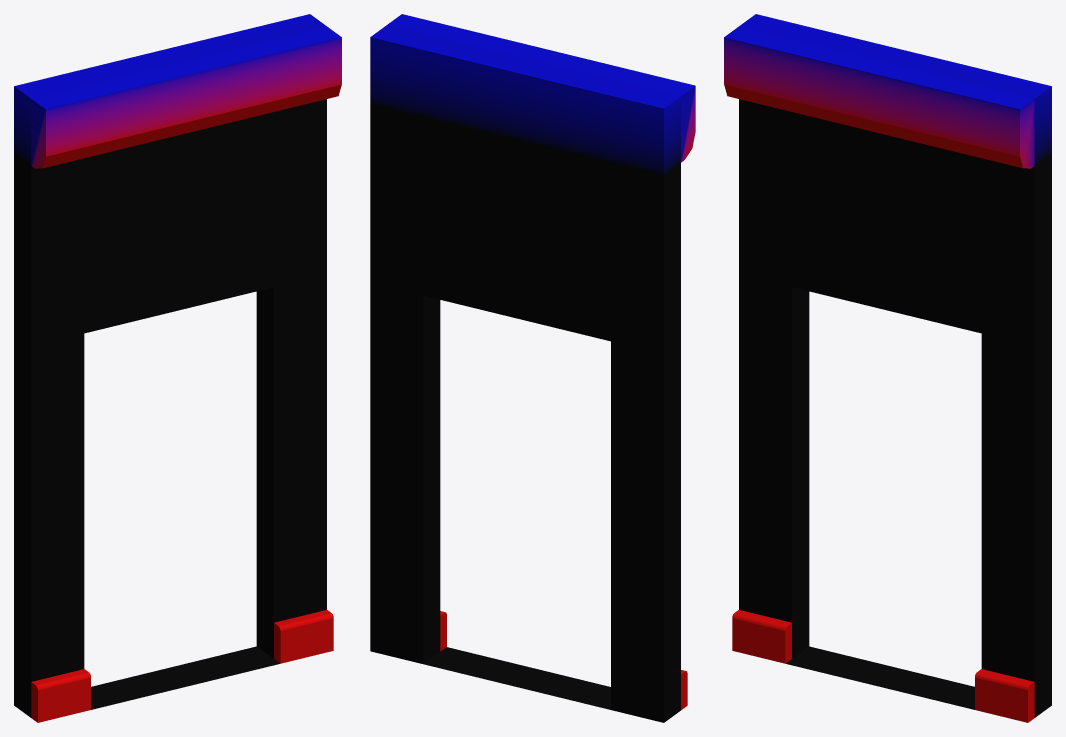
Rendered from WallV2DoorHole.fbx.
3 views of the same model, side by side, from view 1: azimuth 30°, elevation 25°; view 2: azimuth 150°, elevation 25°; view 3: azimuth 330°, elevation 25° (orthographic).
Visible parts, largest first — view 1: WallV2DoorHole; view 2: WallV2DoorHole; view 3: WallV2DoorHole.
Boxes of the visible parts, x1,y1,x2,y2 form: WallV2DoorHole: (14, 14, 341, 722); WallV2DoorHole: (370, 14, 695, 722); WallV2DoorHole: (724, 14, 1051, 722).
Size of the model in its own units: 200 by 400 by 37.2.
